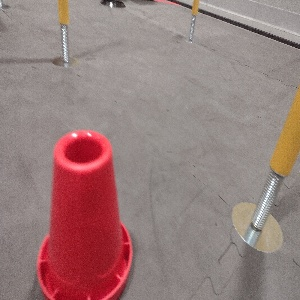Red_1: (35, 127, 134, 299)
